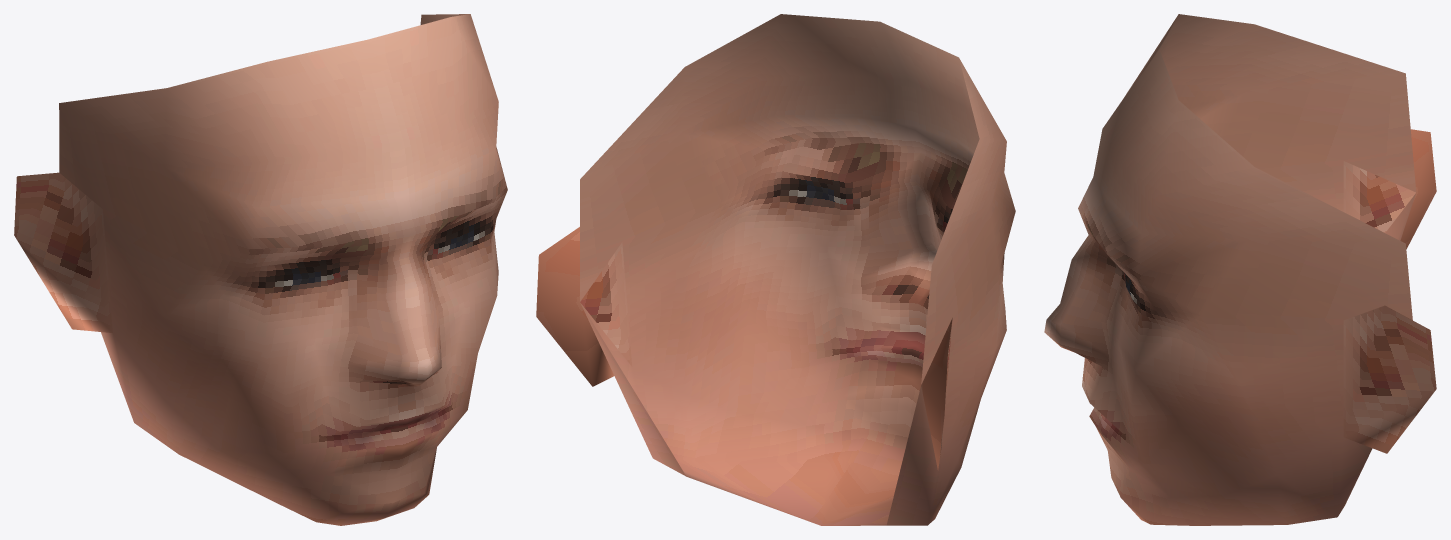
3 views of the same model, side by side, from view 1: azimuth 30°, elevation 25°; view 2: azimuth 150°, elevation 25°; view 3: azimuth 270°, elevation 25° (orthographic). The views are drawn at different scales.
Parts seen in each view (by area): view 1: editpl_m-0000-142, editpl_m-0000-141; view 2: editpl_m-0000-142, editpl_m-0000-141; view 3: editpl_m-0000-142, editpl_m-0000-141.
Boxes of the visible parts, x1,y1,x2,y2 form: editpl_m-0000-142: (14, 14, 507, 399); editpl_m-0000-141: (101, 210, 477, 525); editpl_m-0000-142: (536, 14, 1015, 470); editpl_m-0000-141: (580, 242, 1006, 525); editpl_m-0000-142: (1046, 14, 1436, 453); editpl_m-0000-141: (1044, 161, 1415, 525).
Bounding box in the file's own units: 17.18 × 18.54 × 14.4.
1 material, 1 textured.
